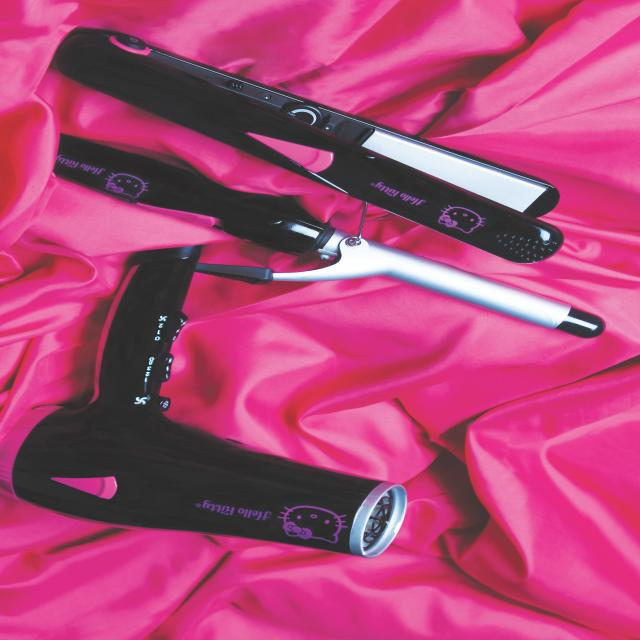dryer: (0, 245, 409, 560)
